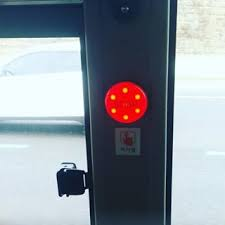bell: (103, 80, 152, 127)
